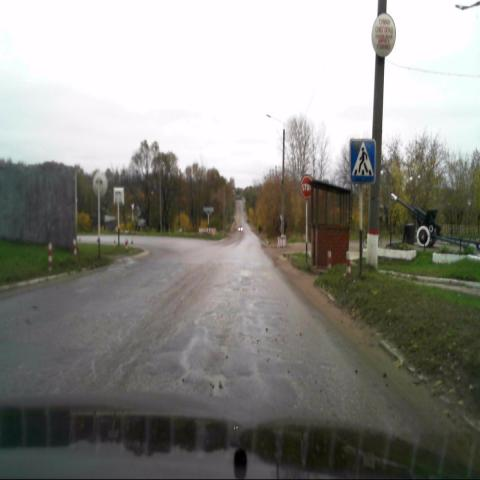2_5: (300, 174, 314, 199)
